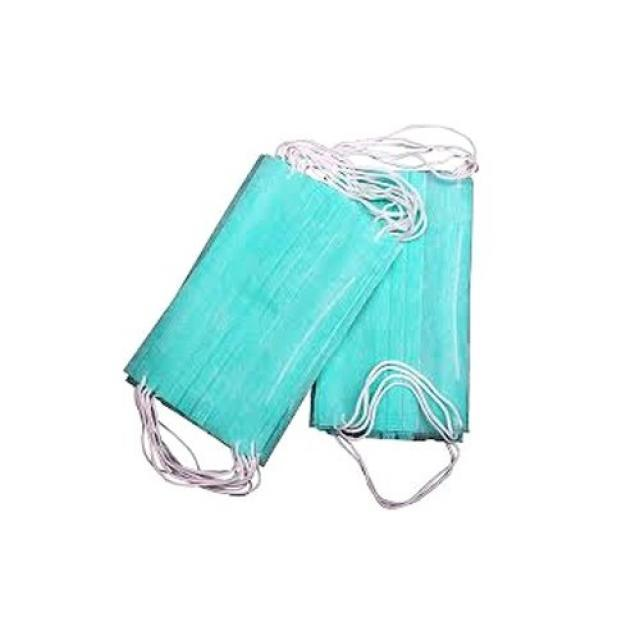face mask: (114, 127, 494, 521)
